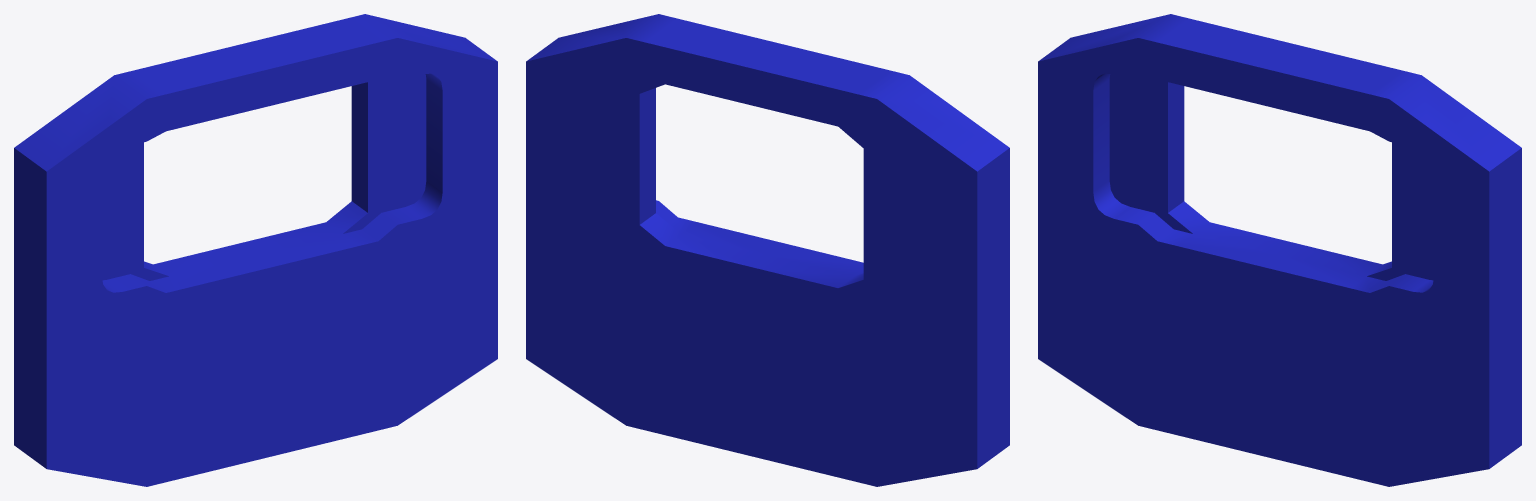
Rendered from Pereborka_BigDoor_Top.FBX.
3 views of the same model, side by side, from view 1: azimuth 30°, elevation 25°; view 2: azimuth 150°, elevation 25°; view 3: azimuth 330°, elevation 25° (orthographic).
Visible parts, largest first — view 1: Pereborka_BigDoor_Top; view 2: Pereborka_BigDoor_Top; view 3: Pereborka_BigDoor_Top.
Boxes of the visible parts, x1,y1,x2,y2 form: Pereborka_BigDoor_Top: [14, 14, 497, 486]; Pereborka_BigDoor_Top: [526, 14, 1009, 486]; Pereborka_BigDoor_Top: [1038, 14, 1521, 486].
Size of the model in its own units: 800 by 657 by 100.
